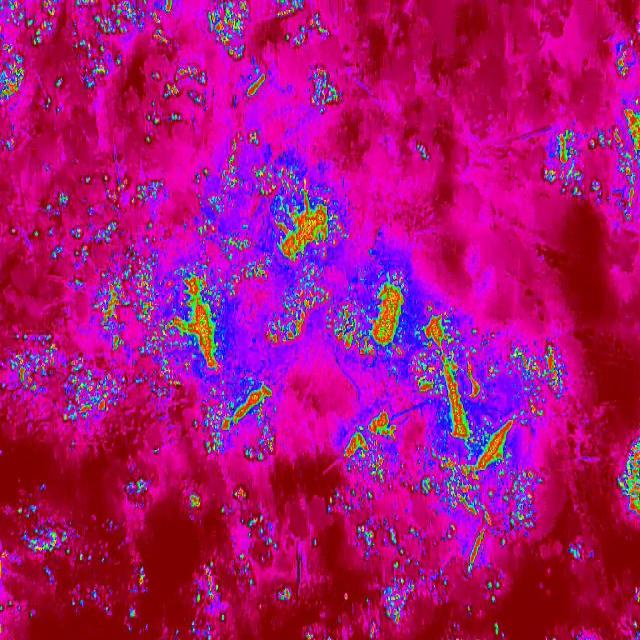fire: (0, 130, 342, 465), (323, 244, 570, 640), (0, 476, 296, 640), (0, 0, 346, 122), (540, 100, 640, 222), (607, 436, 640, 529), (612, 35, 638, 76), (411, 140, 431, 166)
